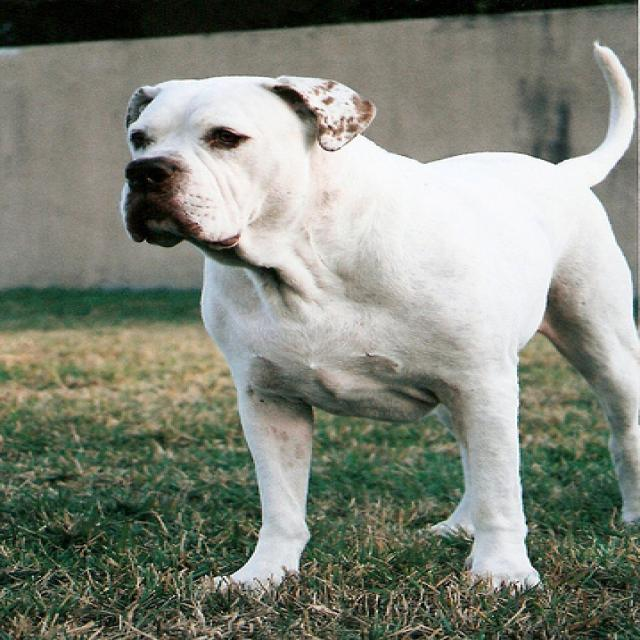dog-american_bulldog: (103, 29, 636, 595)
